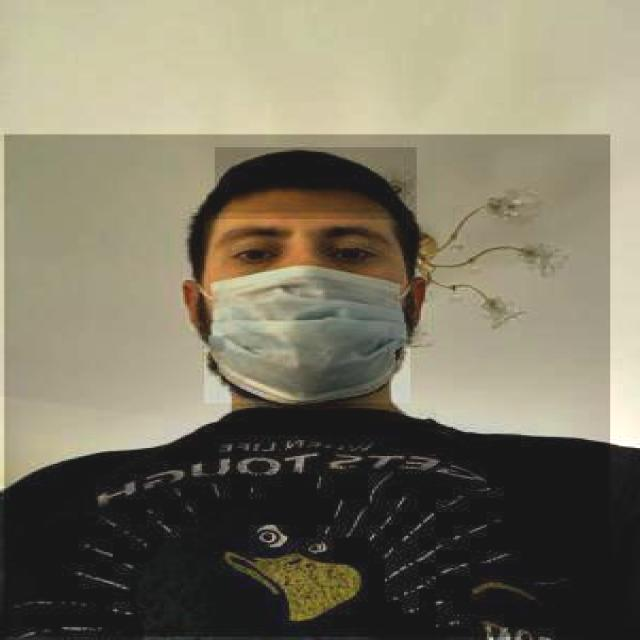face_mask: (204, 213, 410, 403)
head_nohelmet: (215, 147, 416, 219)
person: (2, 134, 610, 638)
